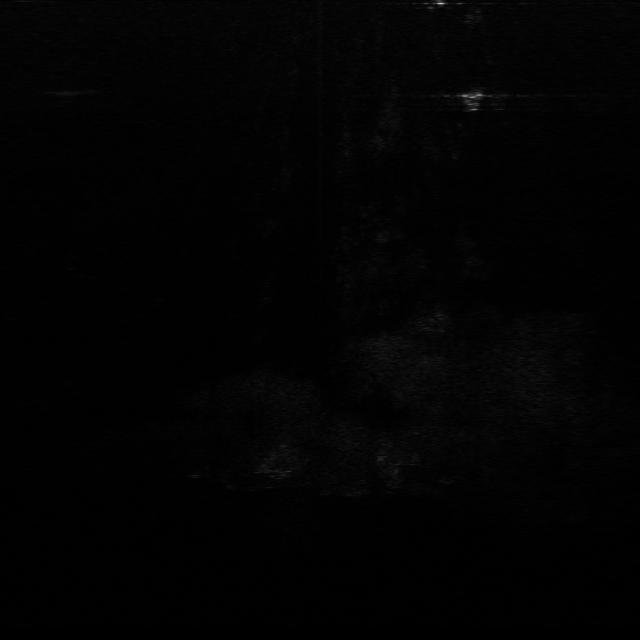rov: (458, 88, 488, 116)
